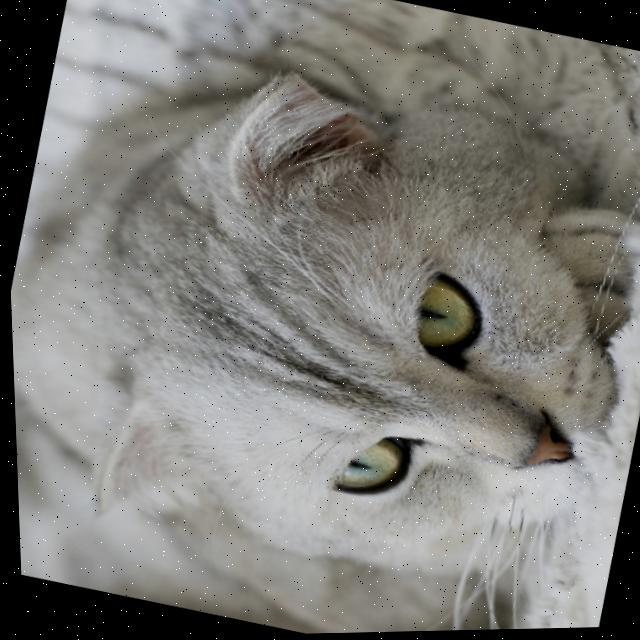Scottish Fold: (1, 7, 640, 640)
